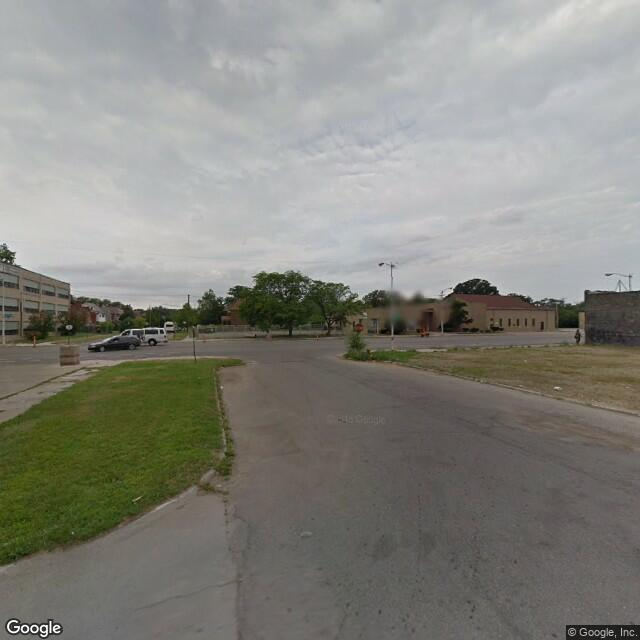litter: (128, 495, 143, 503), (550, 383, 563, 391), (216, 381, 225, 390)
